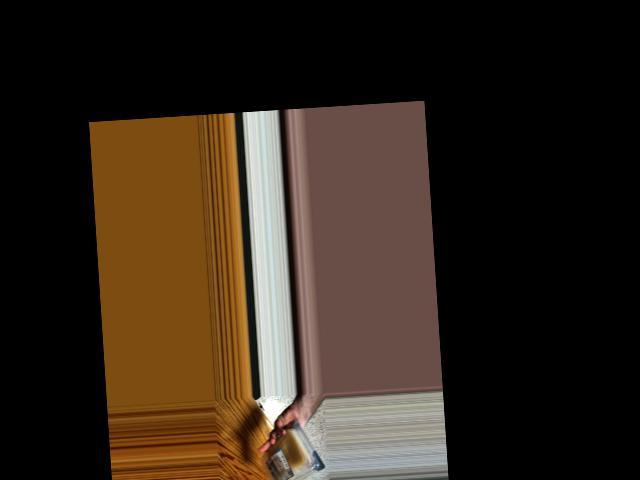cheese: (260, 423, 318, 480)
